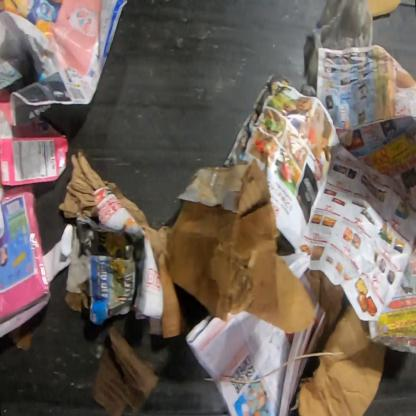cardboard: (59, 152, 312, 336), (297, 306, 387, 416), (88, 325, 162, 415), (0, 100, 68, 188)
soft_plastic: (0, 185, 52, 338), (301, 0, 374, 97)
